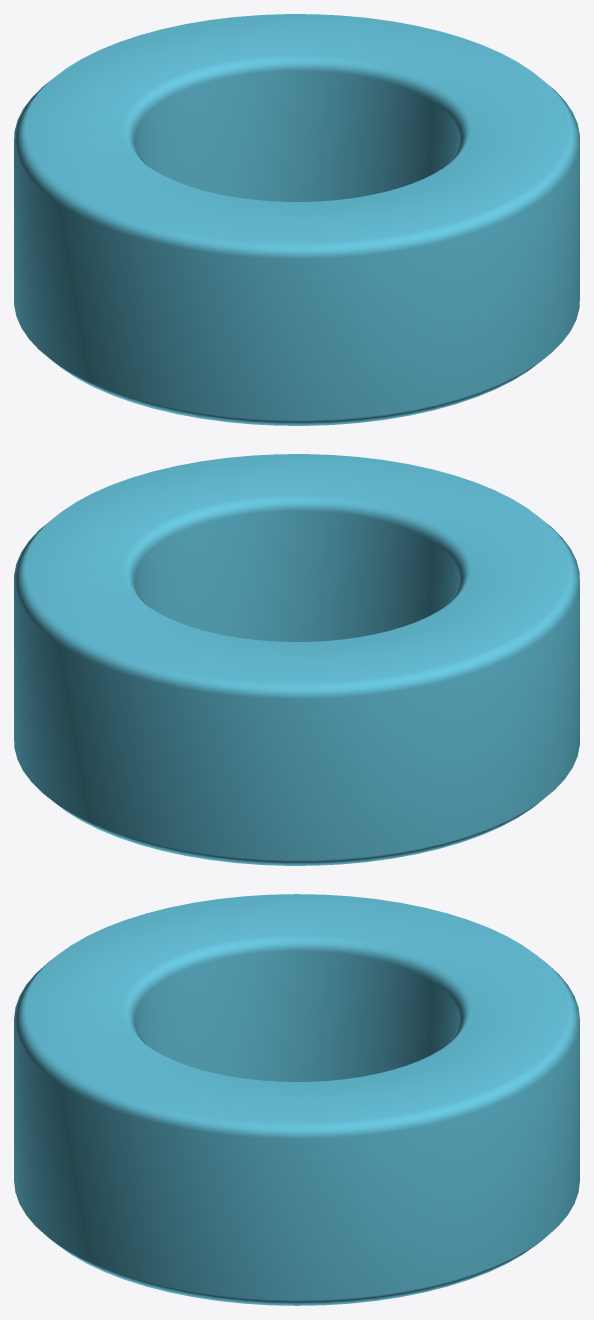
3 views of the same model, one above another, from view 1: azimuth 30°, elevation 25°; view 2: azimuth 150°, elevation 25°; view 3: azimuth 270°, elevation 25° (orthographic).
Parts seen in each view (by area): view 1: seal_body; view 2: seal_body; view 3: seal_body.
Boxes of the visible parts, x1,y1,x2,y2 form: seal_body: [14, 14, 579, 425]; seal_body: [14, 454, 579, 865]; seal_body: [14, 894, 579, 1305].
Size of the model in its own units: 0.0222 by 0.00792 by 0.0222.
